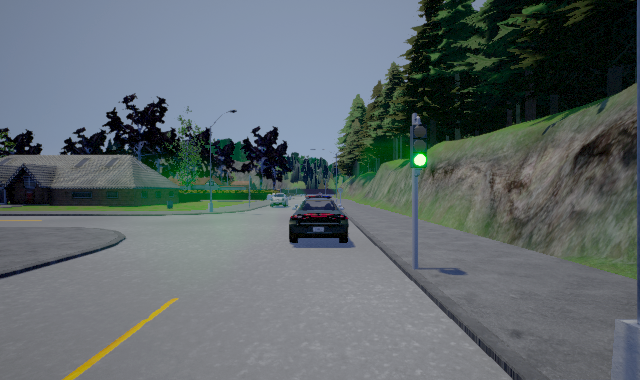traffic_light: (410, 116, 427, 177)
vehicle: (289, 193, 349, 243), (269, 193, 289, 208)
